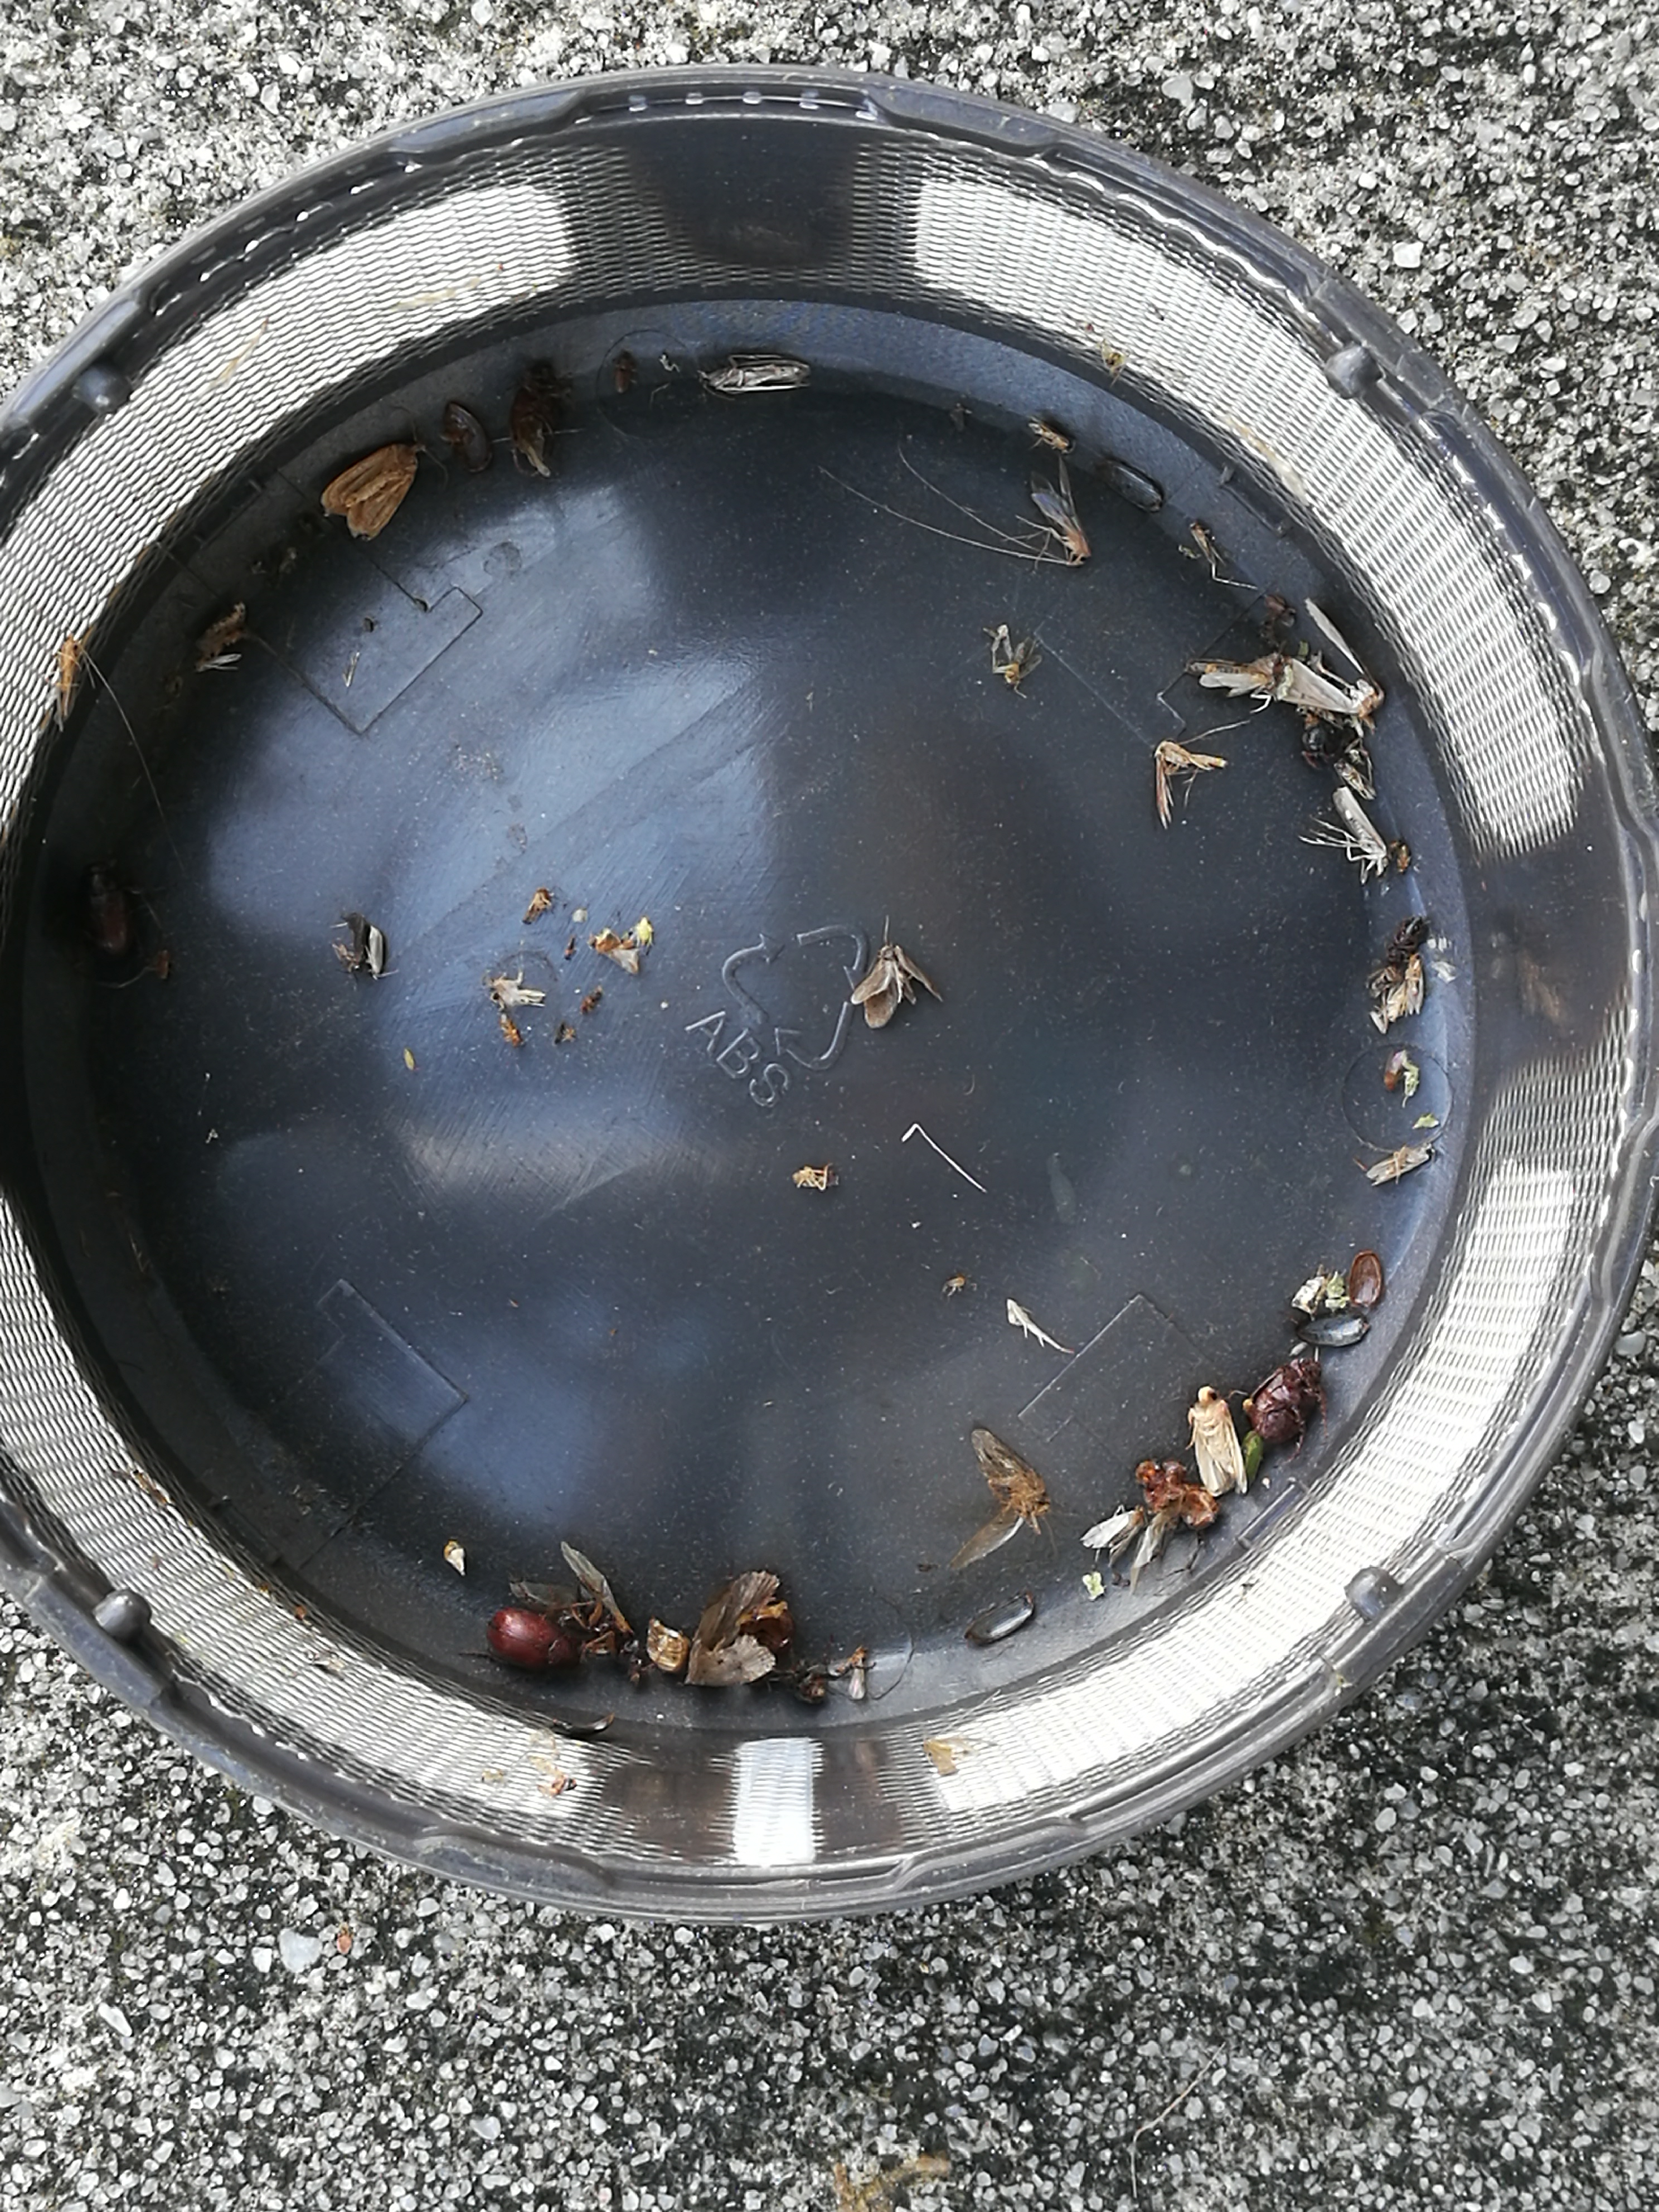beetle: (488, 1606, 577, 1672), (514, 361, 565, 456), (85, 864, 134, 960)
mosquito: (1033, 456, 1089, 556), (1333, 787, 1385, 876), (706, 354, 809, 392), (1366, 1144, 1432, 1183), (1155, 742, 1225, 772), (336, 913, 368, 968), (61, 641, 82, 718), (1028, 416, 1072, 449), (195, 655, 239, 671), (371, 928, 383, 974)
moth: (1277, 599, 1384, 718), (321, 442, 416, 536), (850, 946, 943, 1028), (1187, 1386, 1248, 1496), (971, 1428, 1047, 1515), (1190, 651, 1284, 697), (1082, 1507, 1147, 1564), (1389, 956, 1424, 1019), (592, 934, 640, 972)
